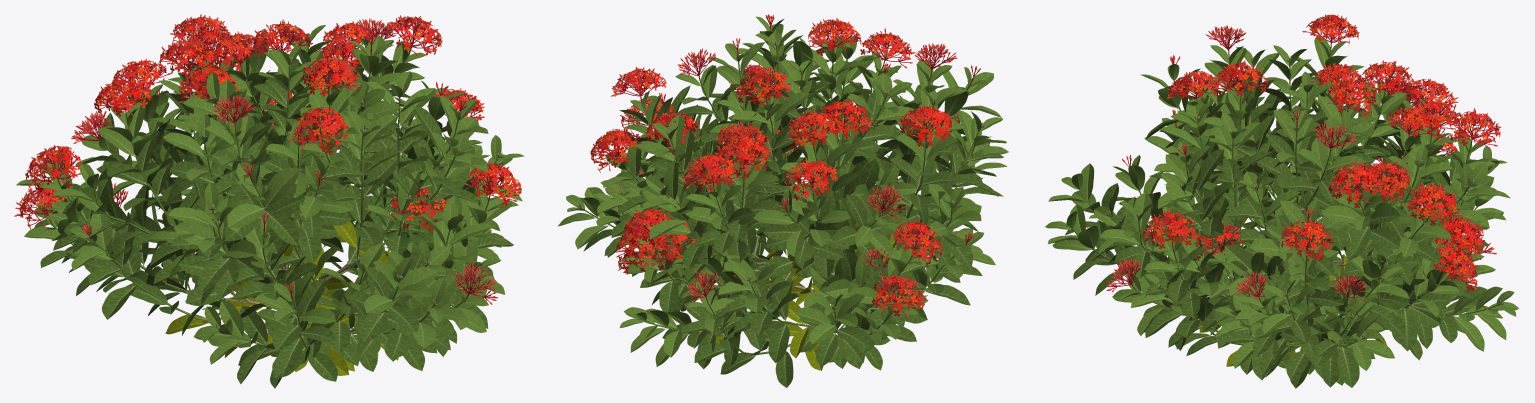
Rendered from chinese_jungle_geranium.glb.
The picture shows the model from 3 angles, left to right: view 1: azimuth 30°, elevation 25°; view 2: azimuth 150°, elevation 25°; view 3: azimuth 270°, elevation 25°; orthographic projection. The views are drawn at different scales.
Parts seen in each view (by area): view 1: Ixora_chinensis_red_HD; view 2: Ixora_chinensis_red_HD; view 3: Ixora_chinensis_red_HD.
Part boxes in pixels (<box>): Ixora_chinensis_red_HD: <box>14,14,524,388</box>; Ixora_chinensis_red_HD: <box>558,14,1008,387</box>; Ixora_chinensis_red_HD: <box>1045,14,1518,388</box>.
Size of the model in its own units: 2.66 by 1.87 by 2.7.
Materials: 14 (14 with a texture image).
